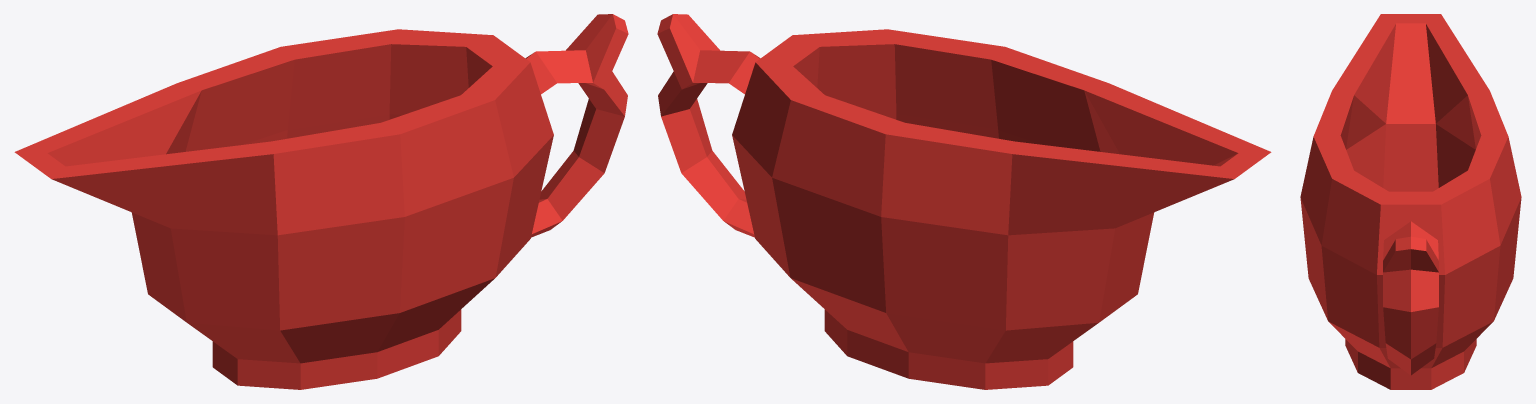
Rendered from SM_Gravy_Boat_Christmas.fbx.
The picture shows the model from 3 angles, left to right: view 1: azimuth 30°, elevation 25°; view 2: azimuth 150°, elevation 25°; view 3: azimuth 270°, elevation 25°; orthographic projection. The views are drawn at different scales.
Parts seen in each view (by area): view 1: gravy-boat-christmas; view 2: gravy-boat-christmas; view 3: gravy-boat-christmas.
Part boxes in pixels (x1,y1,x2,y2): gravy-boat-christmas: (14,14,628,389); gravy-boat-christmas: (657,14,1271,389); gravy-boat-christmas: (1300,14,1521,389).
Size of the model in its own units: 0.2324 by 0.1 by 0.0916.
